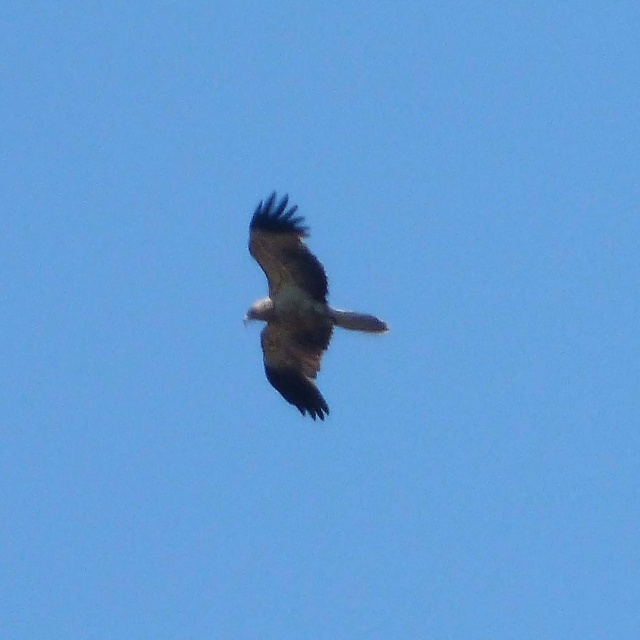Eagle: (240, 189, 393, 422)
